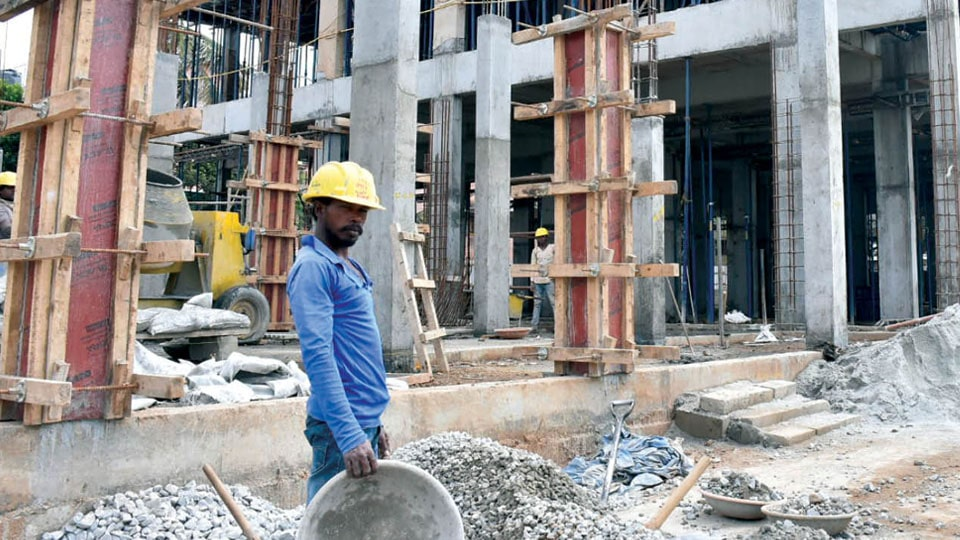cap: (296, 159, 396, 218)
